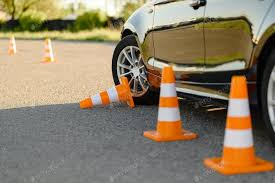car: (114, 1, 275, 107)
cone: (204, 73, 275, 176), (143, 67, 198, 143), (74, 76, 137, 108), (41, 39, 55, 63), (6, 34, 18, 57)
